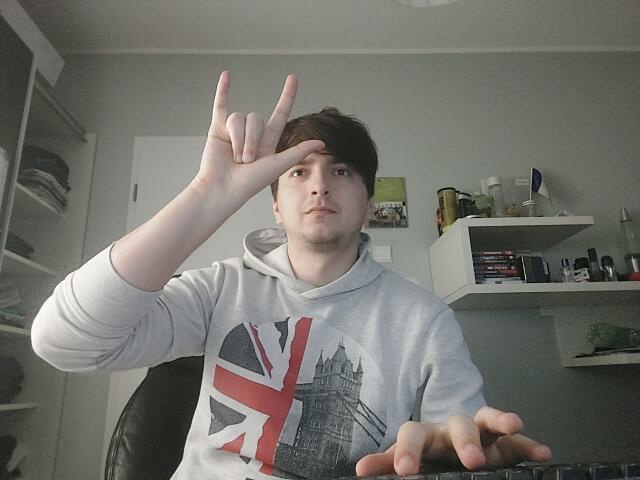love_you: (198, 70, 325, 208)
